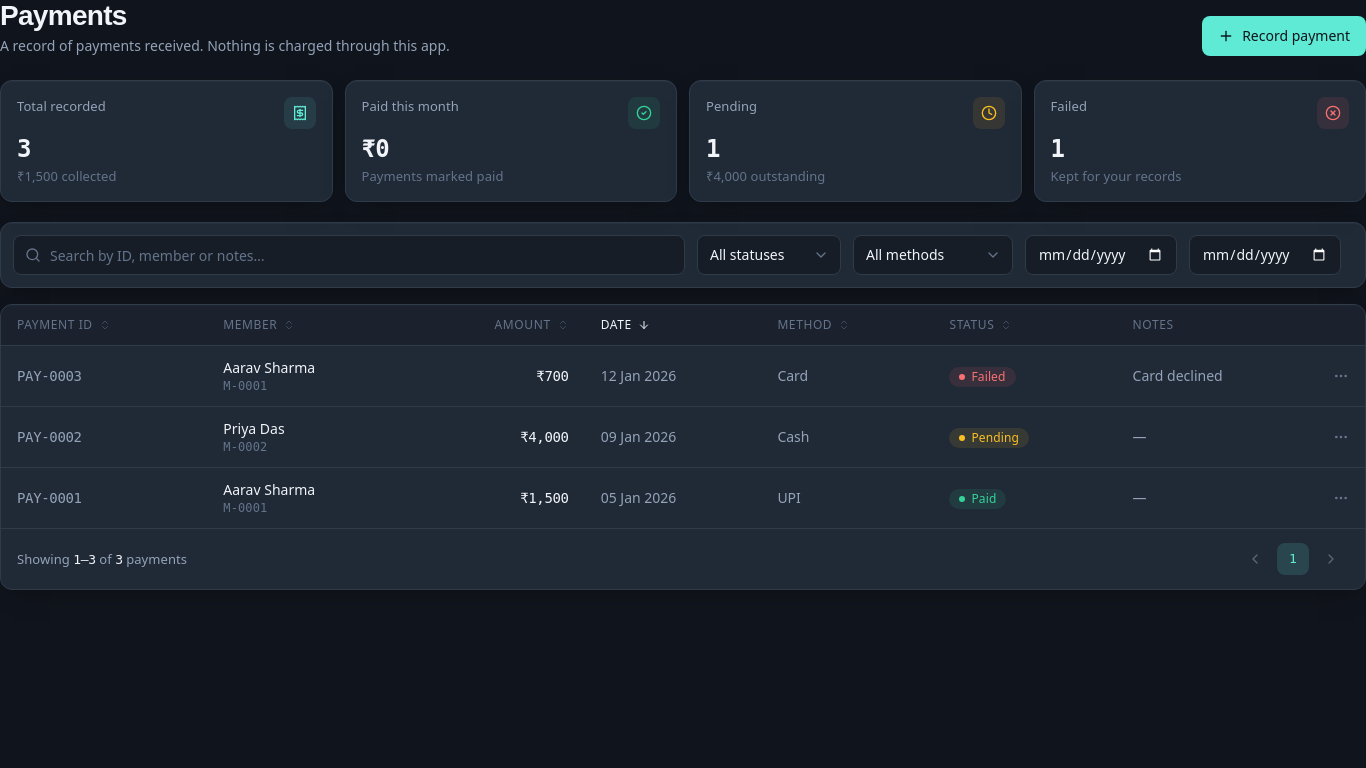
Payments page › edits a payment from its details
Expected: the text "PAY-0002" is shown, x1=1 y1=406 x2=207 y2=468
Click the button named "Actions for payment PAY-0002".
click(1341, 437)  # box x1=1325 y1=421 x2=1357 y2=453
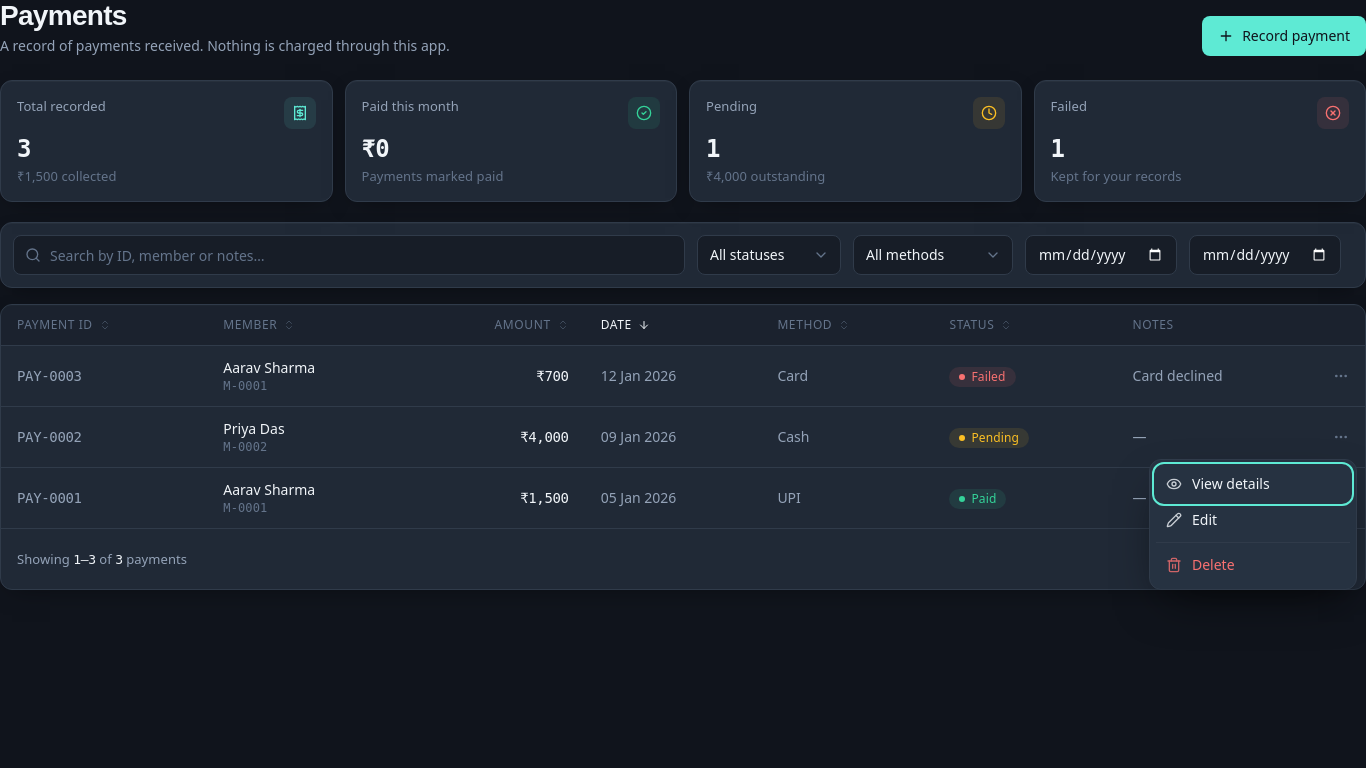
Click the menu item "Edit".
click(1253, 520)  # box x1=1156 y1=502 x2=1350 y2=538
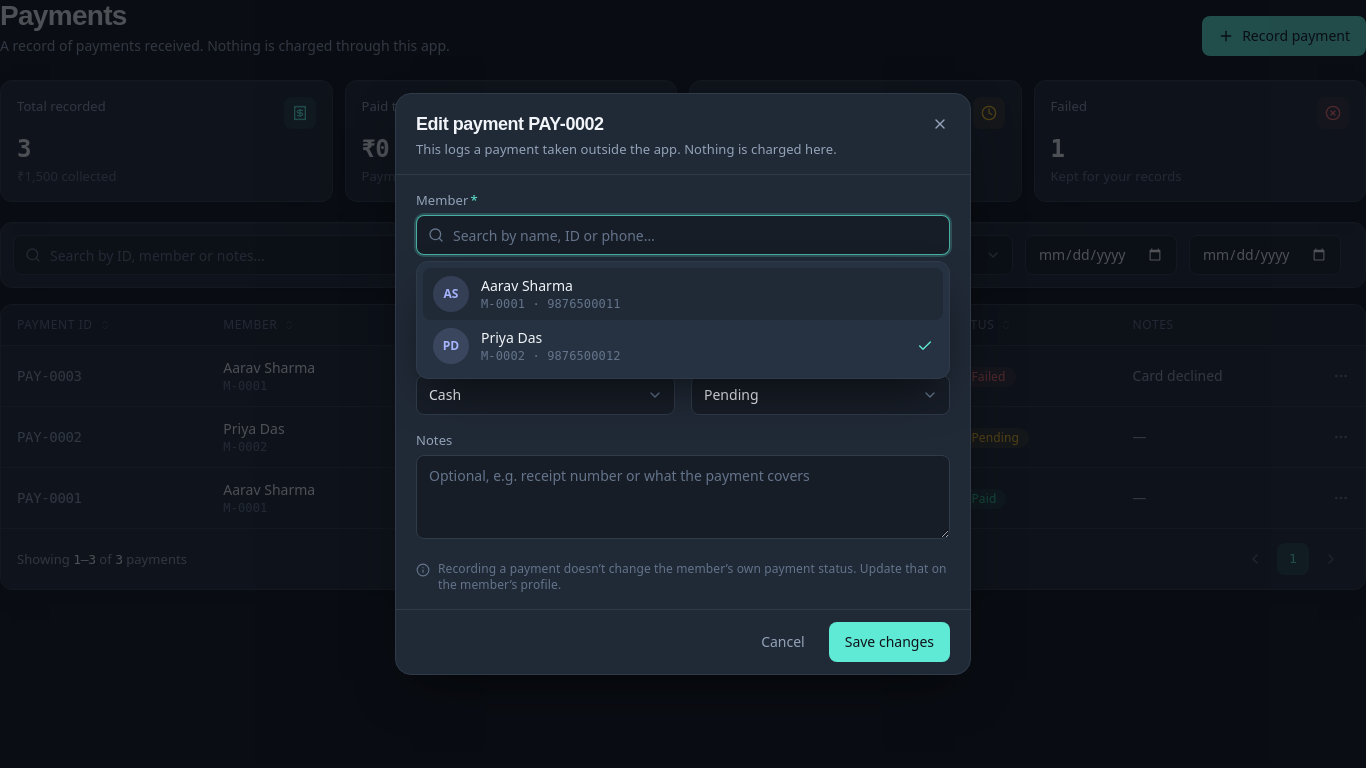
Select "Paid" in the dropdown labelled "Status" at {"x": 820, "y": 395}, box x1=691 y1=375 x2=950 y2=415
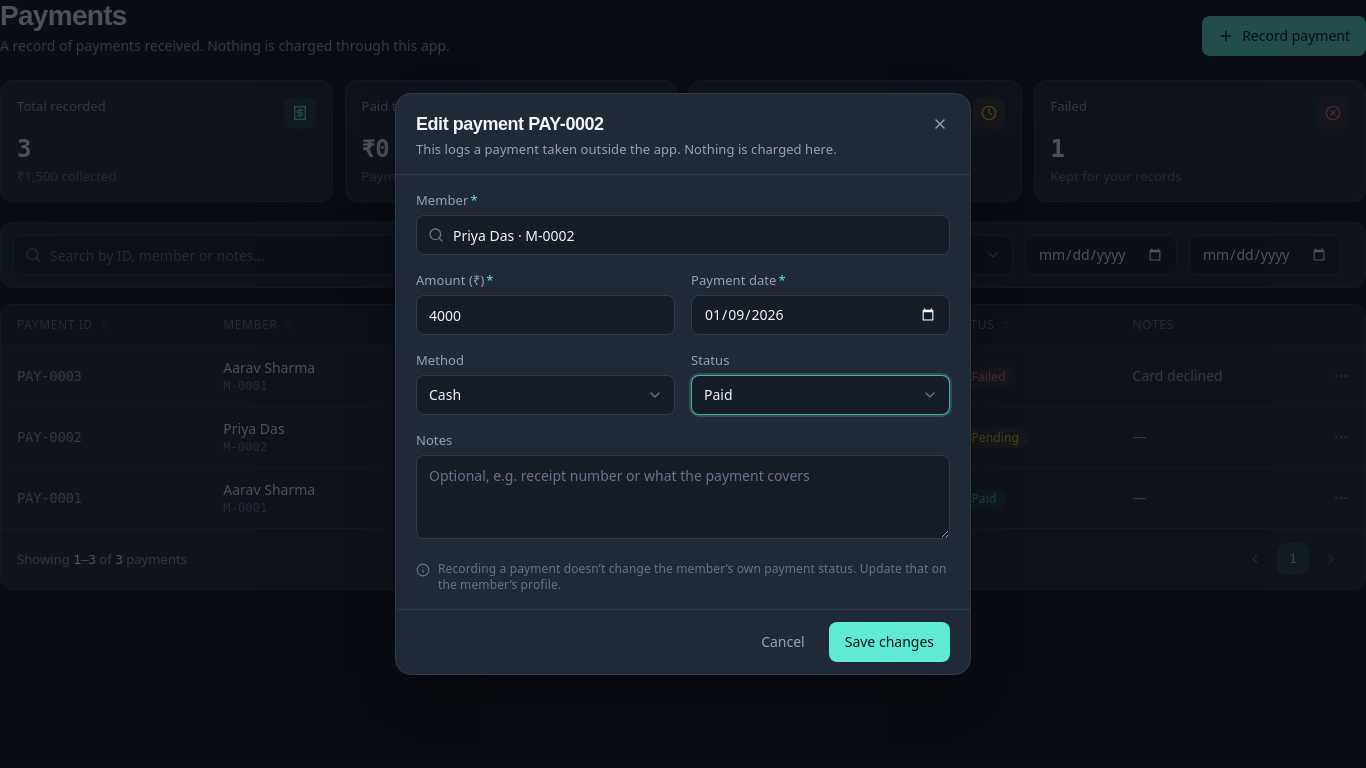
Click the button "Save changes".
click(889, 642)  # box x1=829 y1=622 x2=950 y2=662
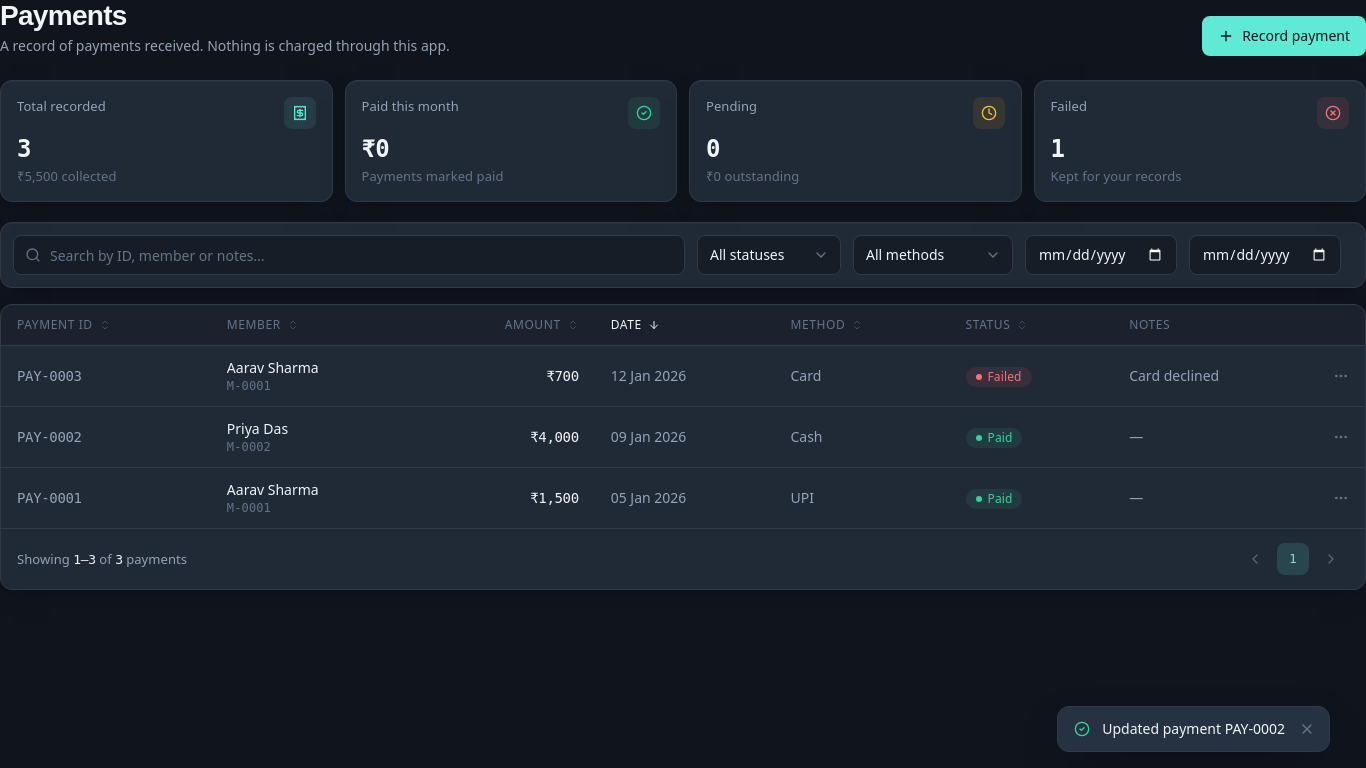
Expected: the text "Updated payment PAY-0002" is shown, x1=1102 y1=719 x2=1285 y2=739
